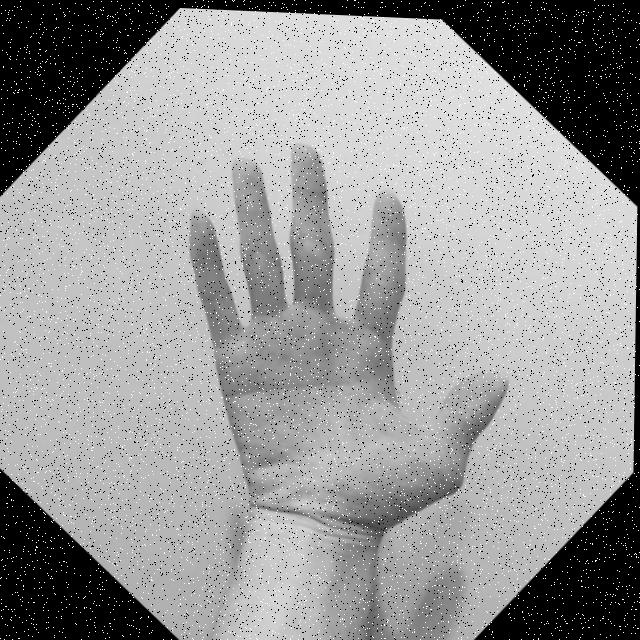hand: (48, 73, 598, 631)
